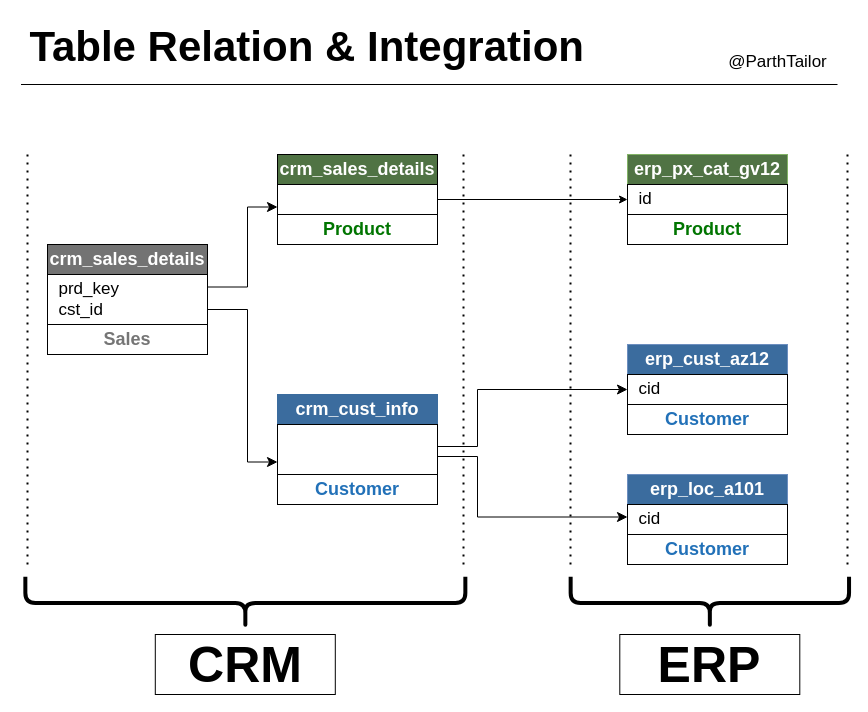
Some shapes in this 868 by 712 pixel diagram are drawn without their labels. Here are the shapes that lost their labels. From the top down, the box of each, then its label:
(276, 184, 438, 214): prd_key
(276, 424, 438, 474): cst_key cst_id
